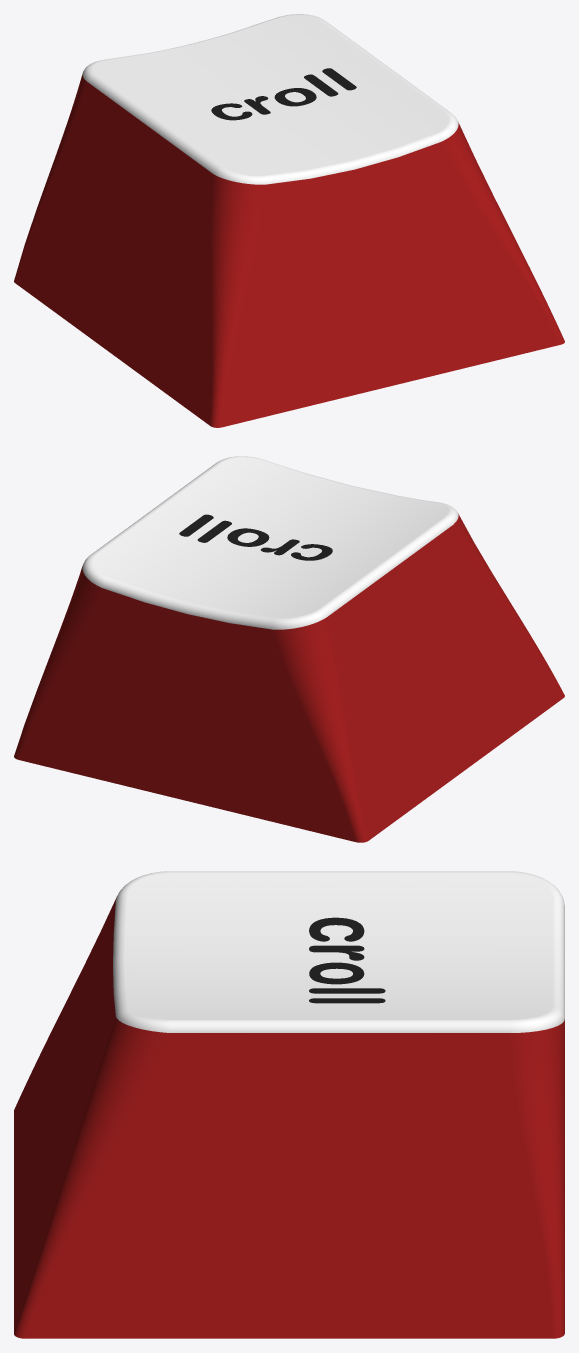
File: Scroll Lock Mono.fbx
3 views of the same model, one above another, from view 1: azimuth 30°, elevation 25°; view 2: azimuth 150°, elevation 25°; view 3: azimuth 270°, elevation 25° (orthographic). The views are drawn at different scales.
Visible parts, largest first — view 1: Body1; view 2: Body1; view 3: Body1.
Part boxes in pixels (x1,y1,x2,y2): Body1: [14, 14, 564, 427]; Body1: [14, 456, 564, 842]; Body1: [14, 871, 564, 1338].
Bounding box in the file's own units: 18 × 9.95 × 18.
